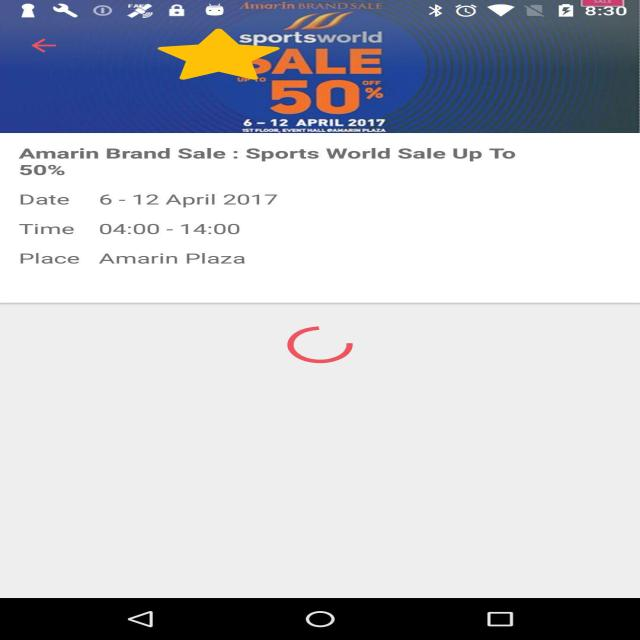forced continuity: (158, 29, 280, 80)
